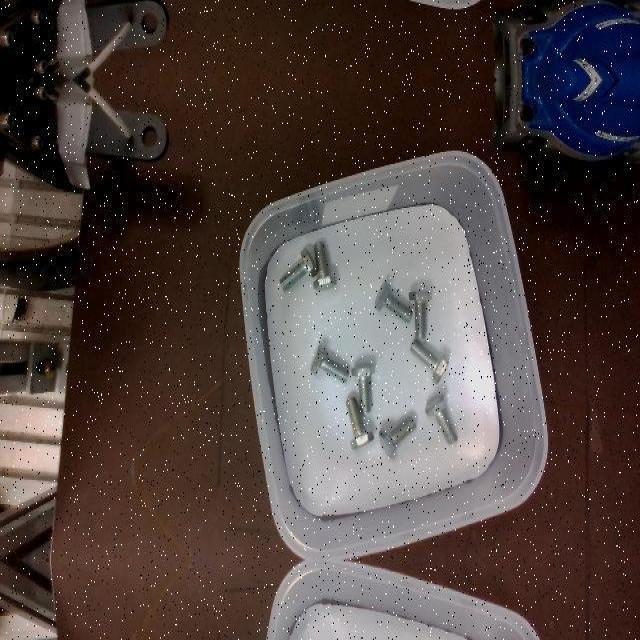screw: (409, 339, 449, 385), (378, 416, 416, 460), (425, 393, 458, 443), (280, 248, 317, 292), (374, 280, 412, 322), (345, 396, 374, 450), (310, 343, 349, 381), (350, 362, 374, 414), (312, 241, 336, 291), (408, 289, 432, 339)
